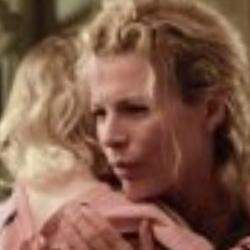face: (56, 4, 244, 214)
